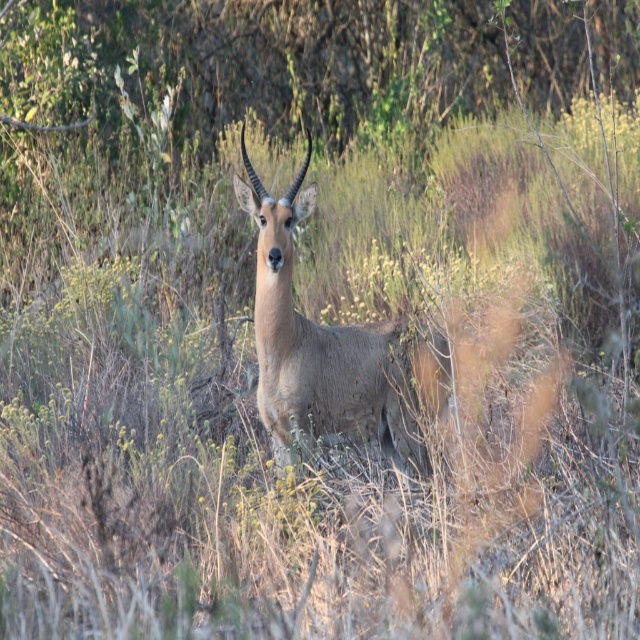Deer: (240, 118, 456, 481)
